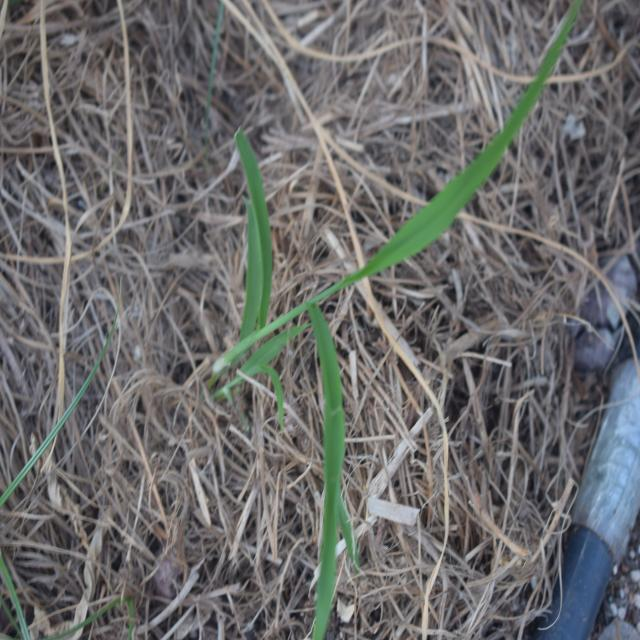crabgrass: (178, 77, 516, 566)
